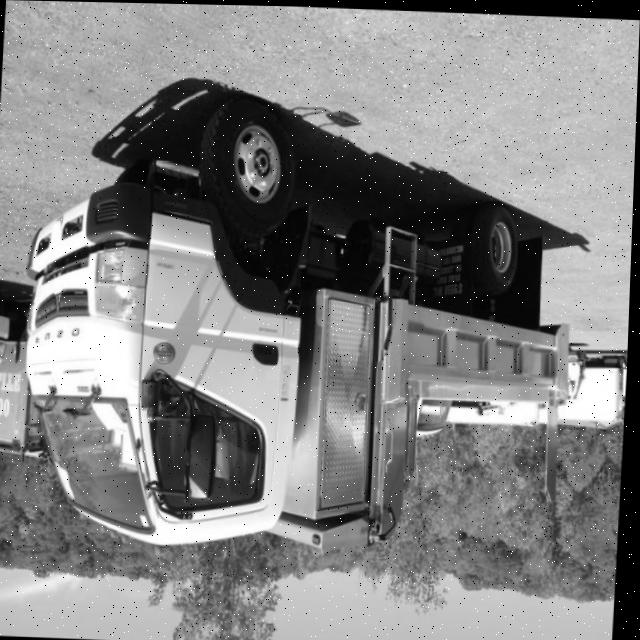truck: (8, 102, 368, 564), (560, 342, 631, 445)
